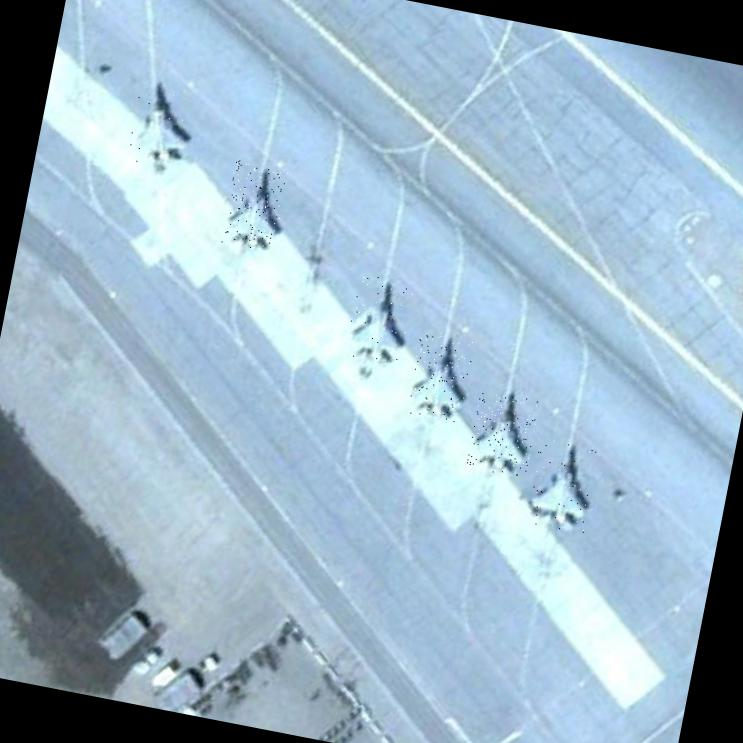A13: (524, 438, 600, 536), (342, 273, 416, 369), (124, 84, 198, 176), (465, 389, 540, 478), (219, 159, 289, 253), (404, 332, 474, 424)
